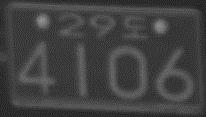0: (107, 45, 149, 101)
1: (63, 43, 99, 98)
2: (57, 11, 86, 38)
4: (18, 40, 56, 96)
6: (155, 46, 195, 102)
9: (89, 12, 115, 37)
도: (121, 14, 149, 40)
